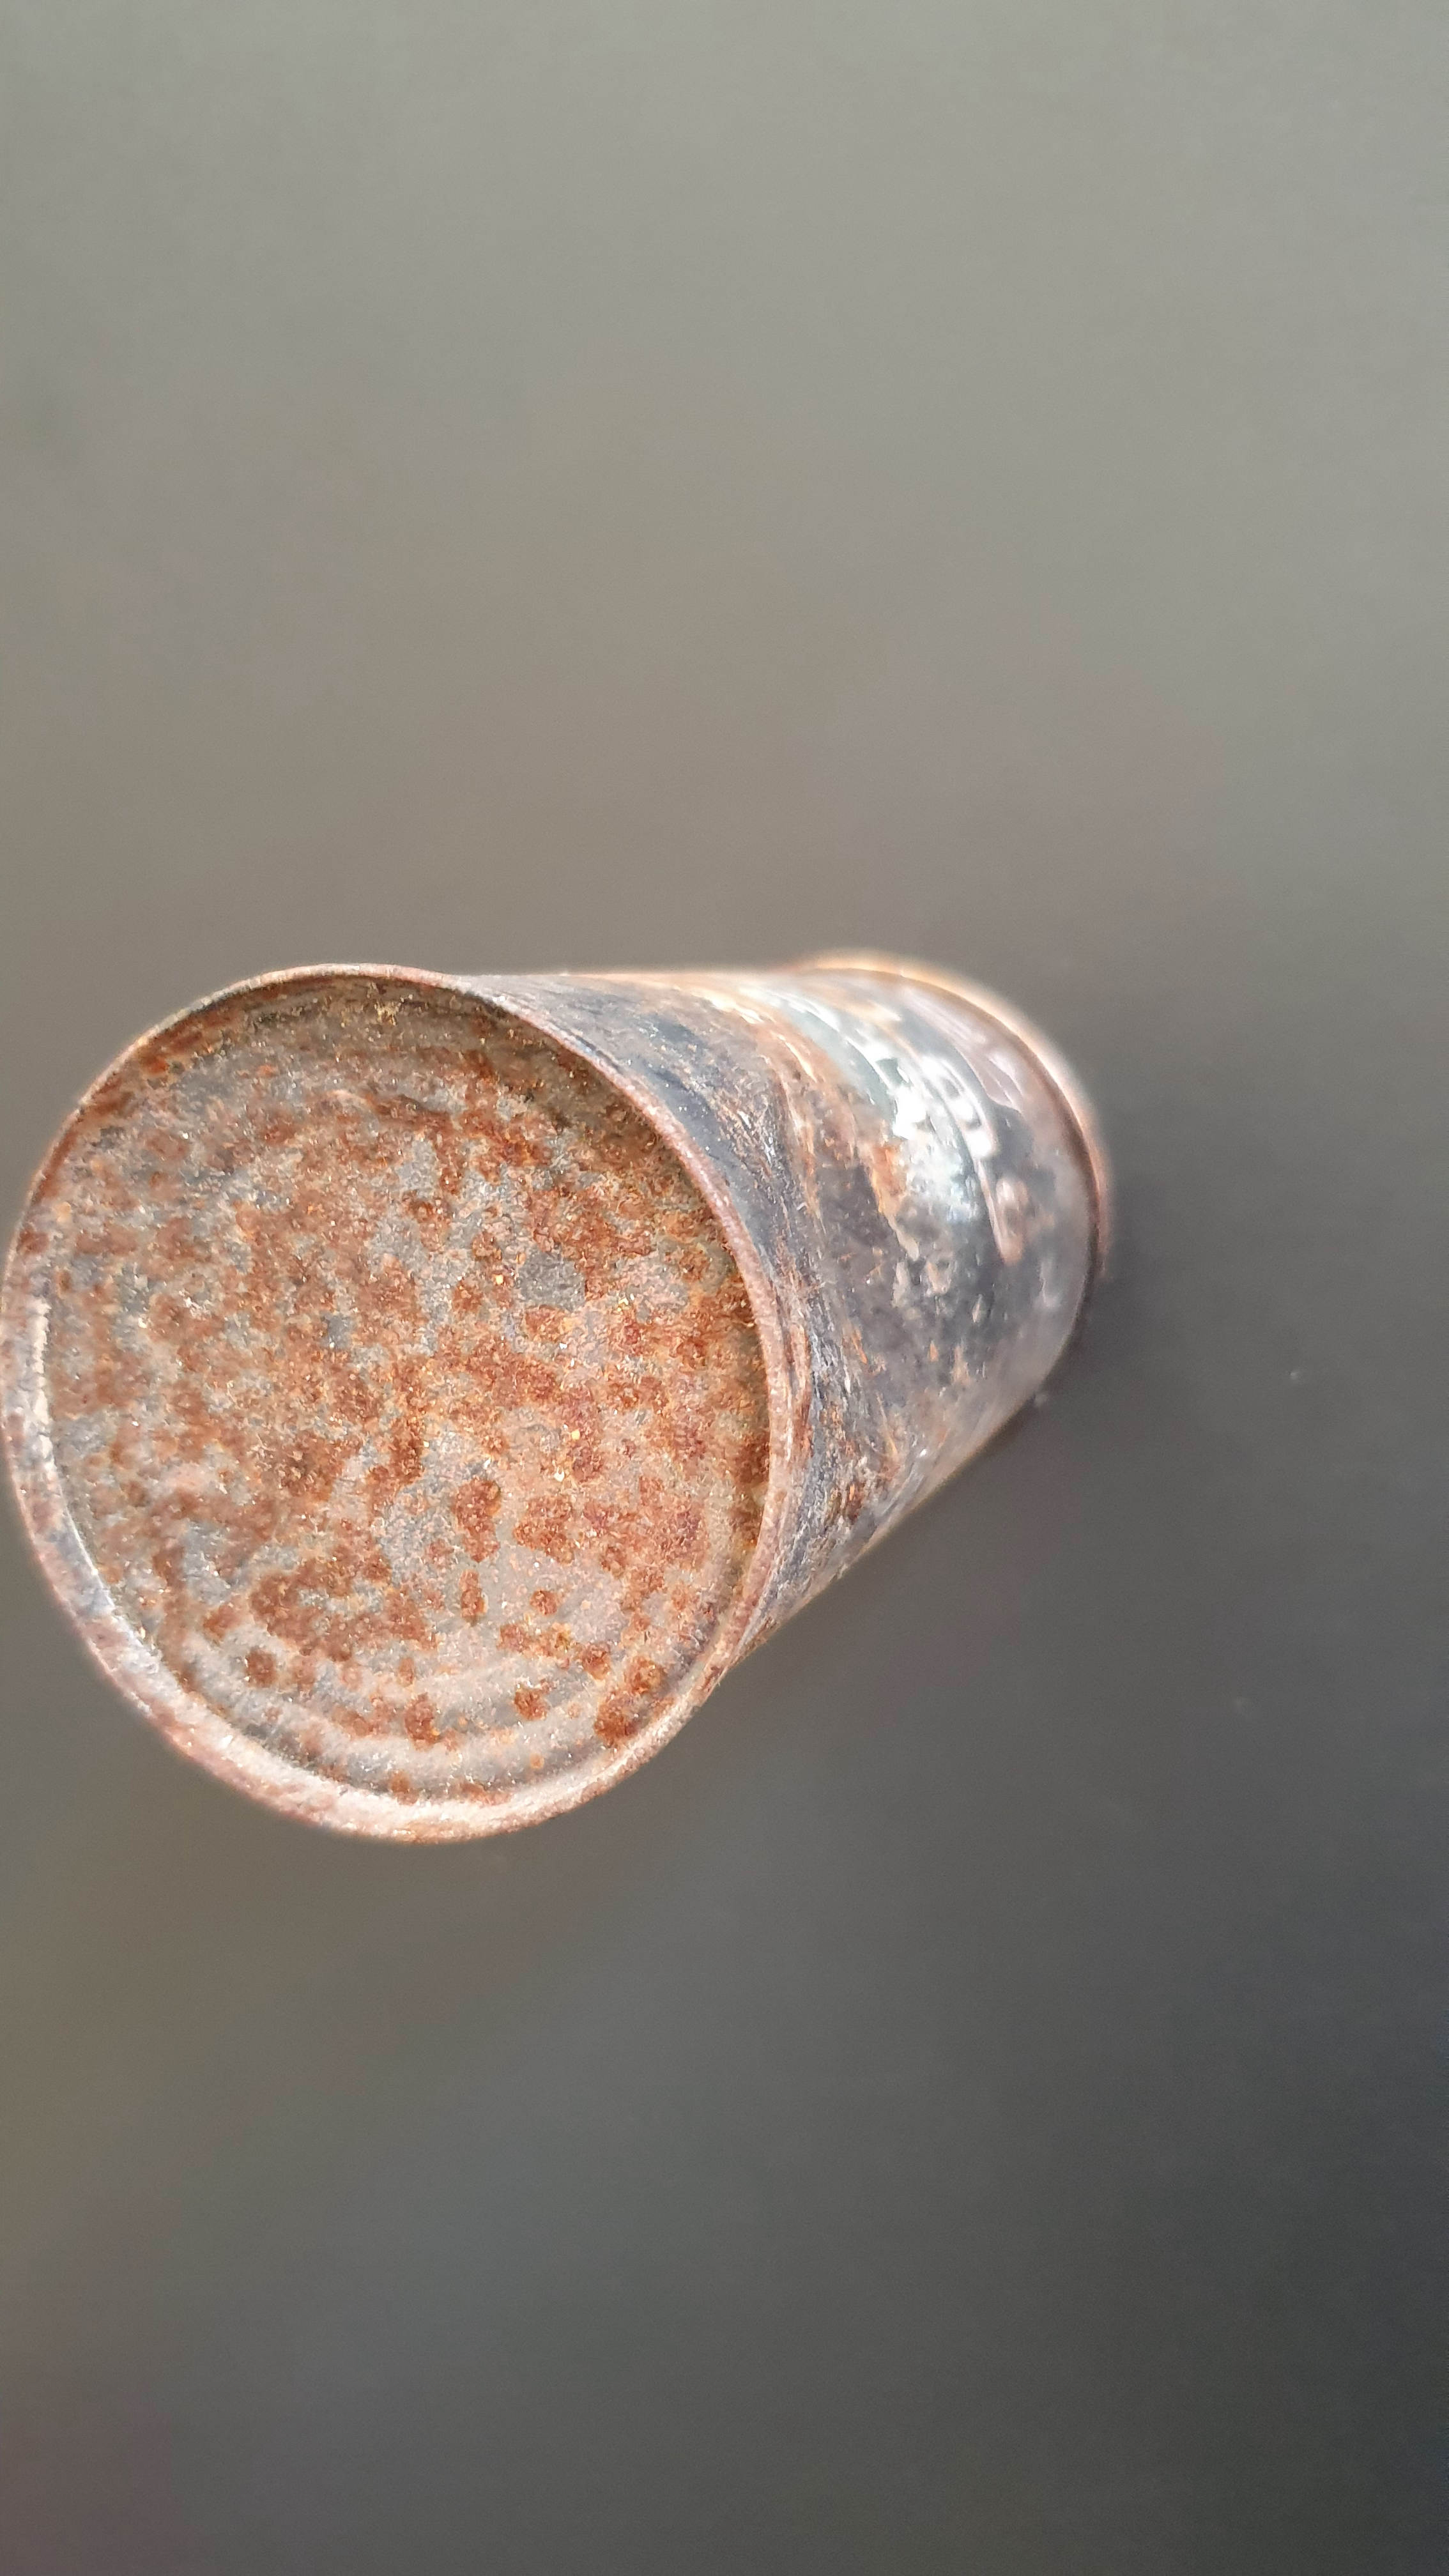metal: (7, 775, 1196, 1941)
